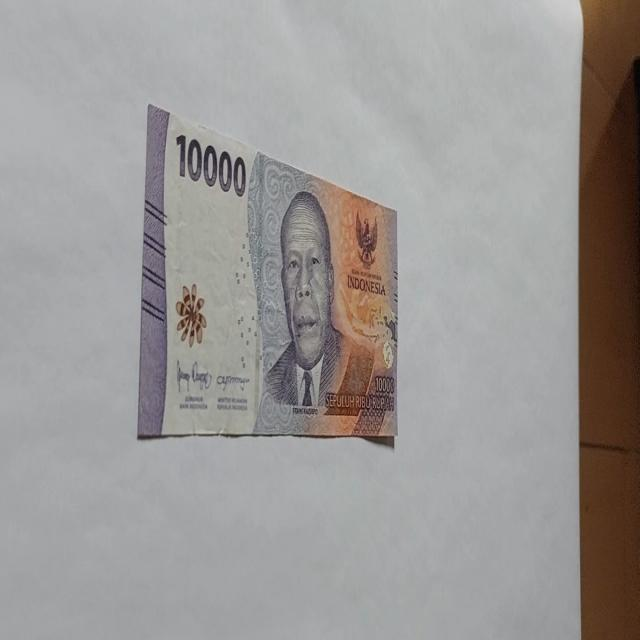sepuluh ribu rupiah: (136, 102, 400, 444), (252, 188, 376, 434), (174, 130, 247, 198)
